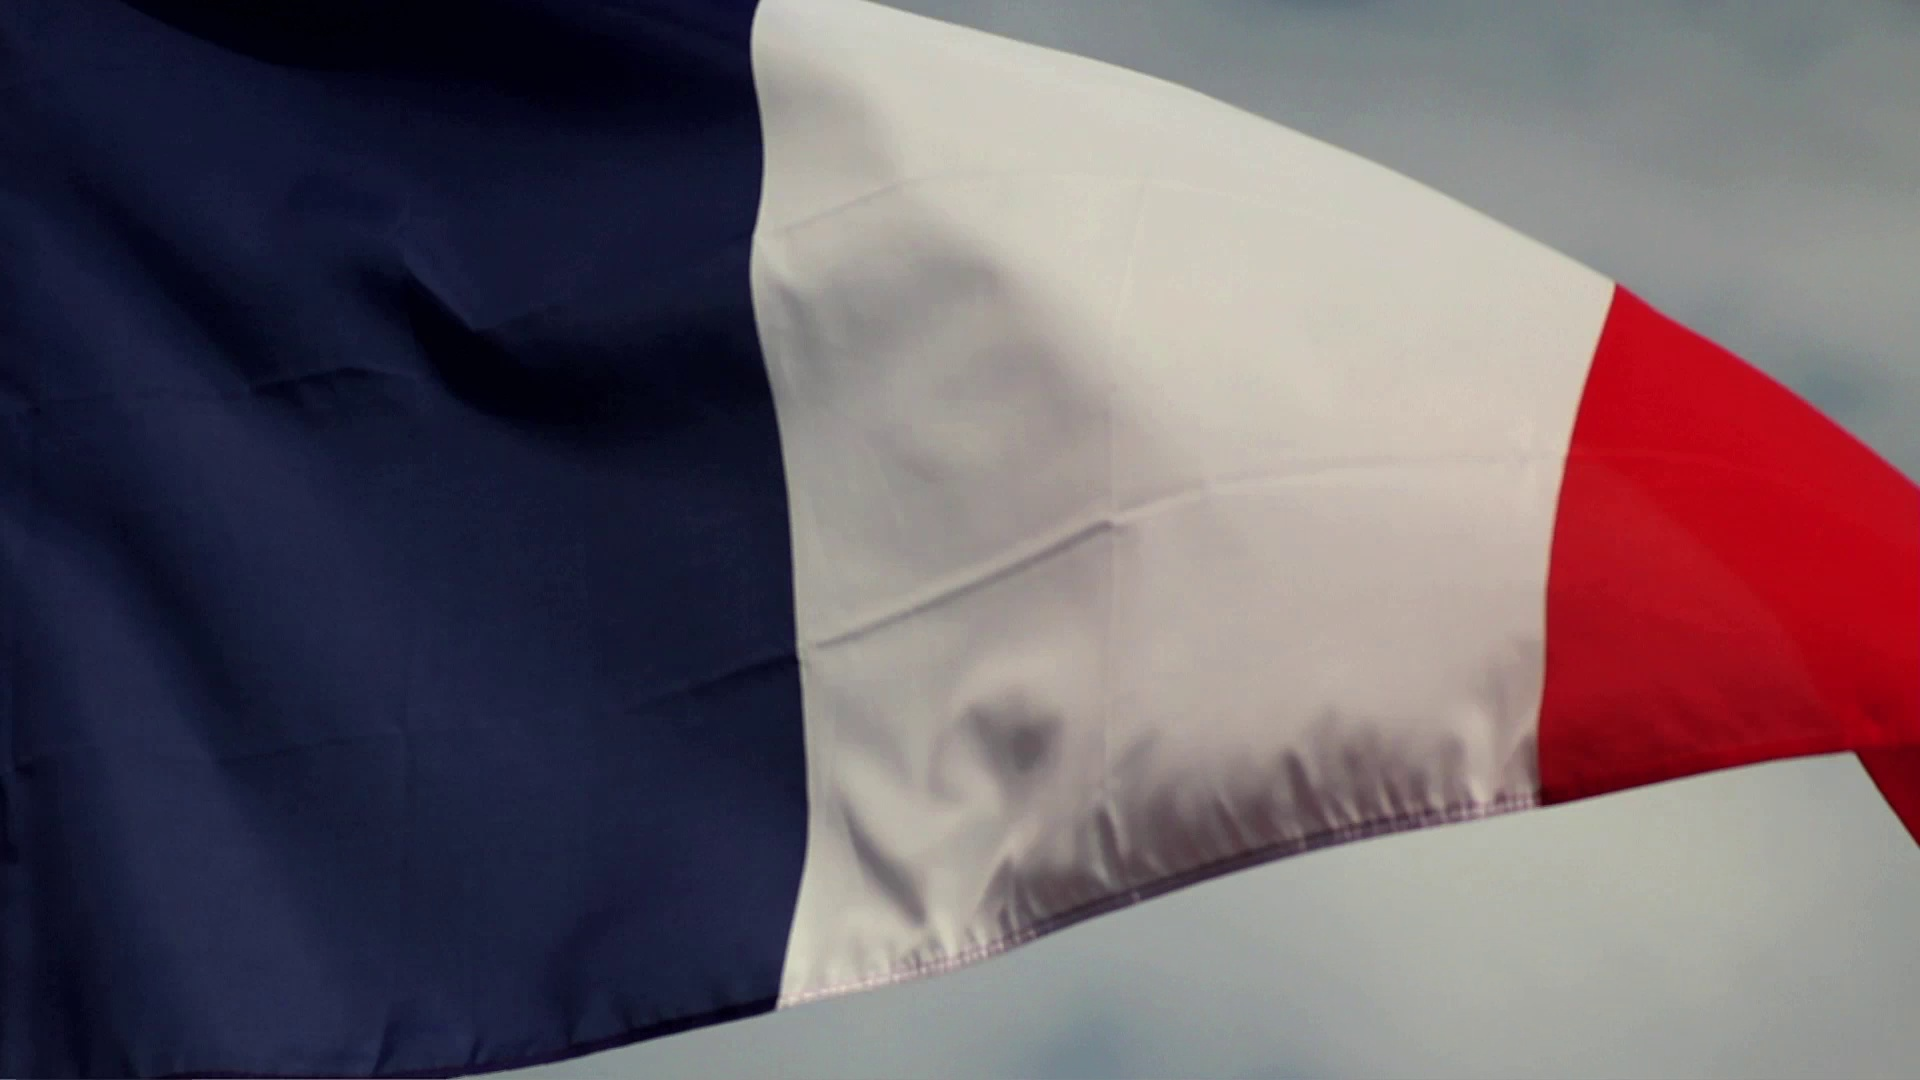French Flag: (1, 1, 1920, 1073)
